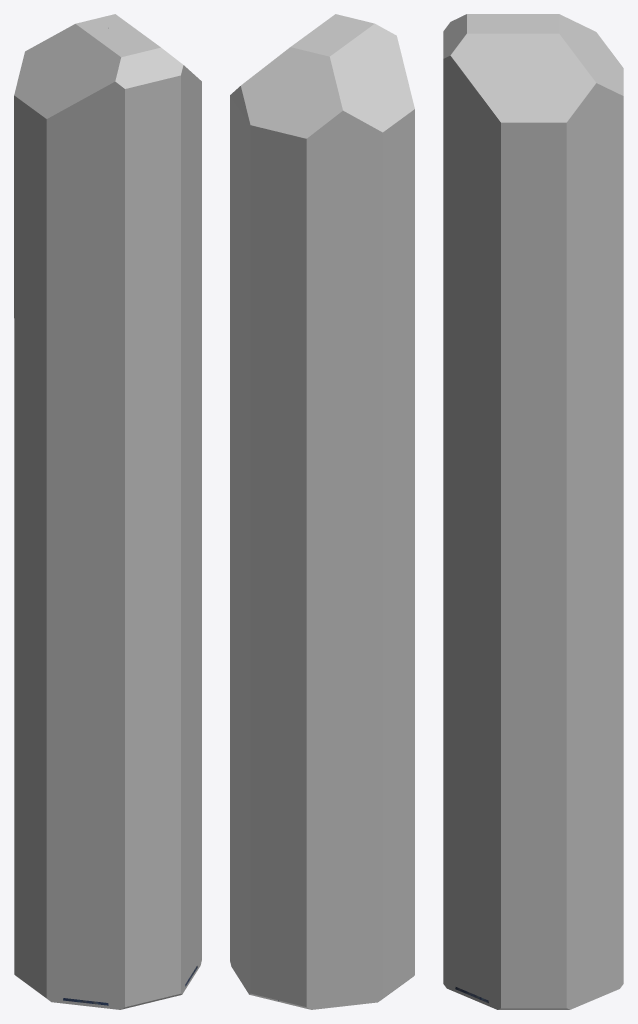
File: SM_gas_cylinder_02.fbx
The picture shows the model from 3 angles, left to right: view 1: azimuth 30°, elevation 25°; view 2: azimuth 150°, elevation 25°; view 3: azimuth 270°, elevation 25°; orthographic projection. The views are drawn at different scales.
Parts seen in each view (by area): view 1: SM_gas_cylinder_02_ConvexHulls; view 2: SM_gas_cylinder_02_ConvexHulls; view 3: SM_gas_cylinder_02_ConvexHulls.
Boxes of the visible parts, left/top/right/bottom form: SM_gas_cylinder_02_ConvexHulls: left=14, top=14, right=201, bottom=1009; SM_gas_cylinder_02_ConvexHulls: left=230, top=14, right=414, bottom=1009; SM_gas_cylinder_02_ConvexHulls: left=443, top=14, right=623, bottom=1009.
Bounding box in the file's own units: 25.01 × 25.03 × 145.
Materials: 2 (1 with a texture image).
